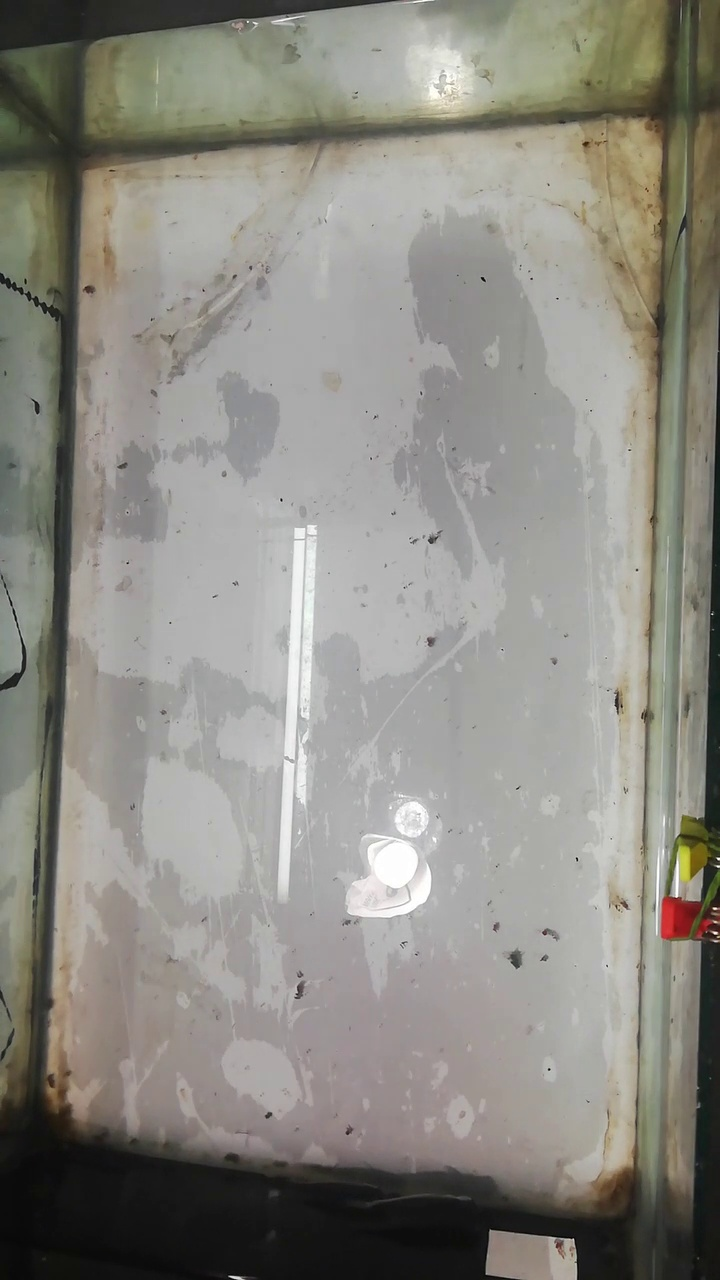fish1: (396, 1166, 501, 1200)
fish2: (297, 1156, 396, 1200)
